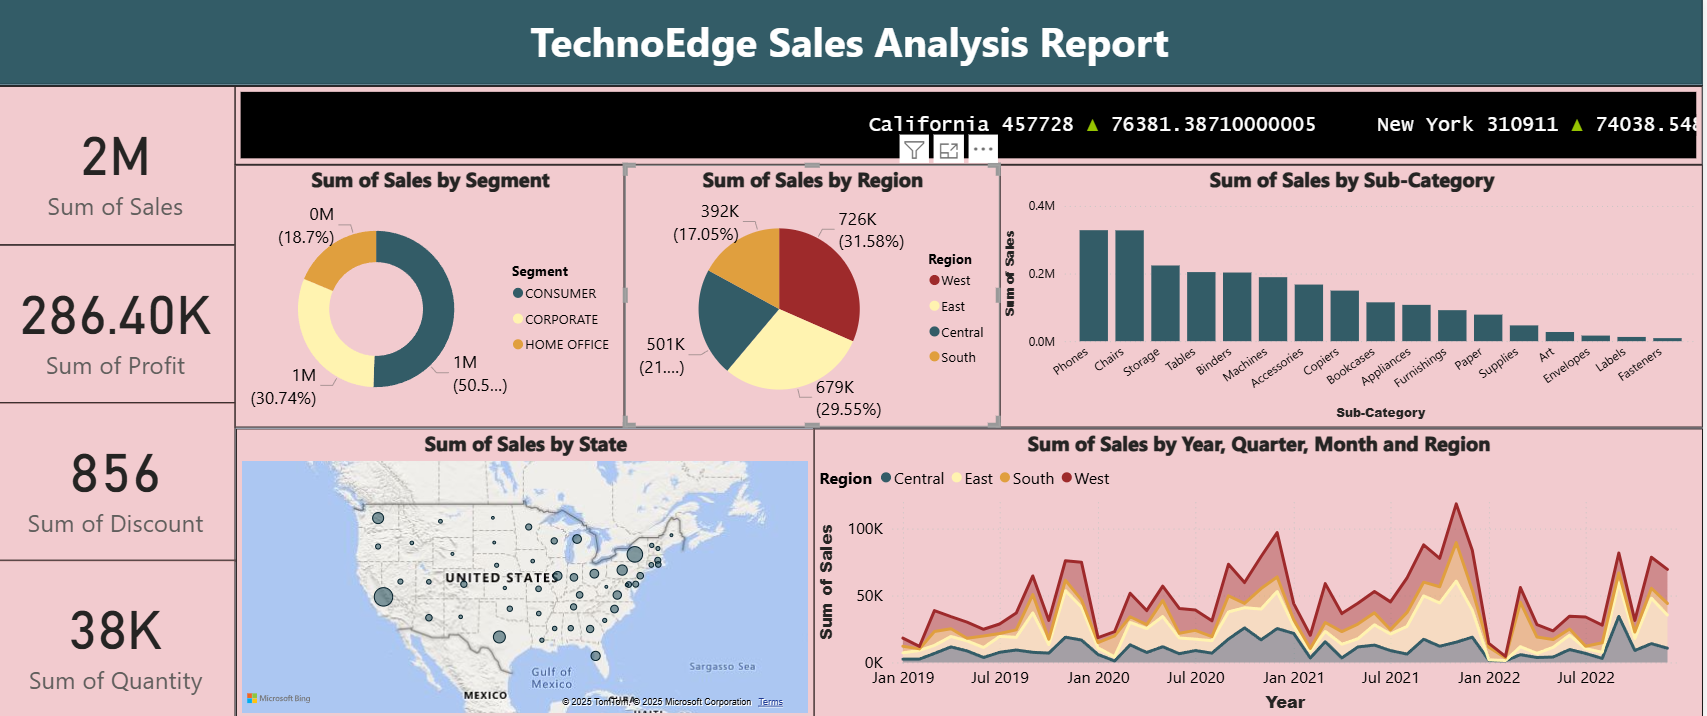

This screenshot's page, from the dashboard's own definition file:
{"tool":"powerbi","page":{"name":"Page 1","canvas":[1700,720],"ordinal":0},"visuals":[{"type":"shape","box":[0,0,1700.4,89.3],"z":0},{"type":"card","fields":{"Values":["Sum(TechnoEdge Monthy Sales Data (2).Sales)"]},"box":[0,90,238.3,158.3],"z":2000},{"type":"card","fields":{"Values":["Sum(TechnoEdge Monthy Sales Data (2).Profit)"]},"box":[0,247.9,238.7,158.6],"z":3000},{"type":"card","fields":{"Values":["Sum(TechnoEdge Monthy Sales Data (2).Discount)"]},"box":[0,404.6,238.7,158.6],"z":4000},{"type":"card","fields":{"Values":["Sum(TechnoEdge Monthy Sales Data (2).Quantity)"]},"box":[0,561.3,238.7,158.6],"z":5000},{"type":"stackedAreaChart","fields":{"Category":["TechnoEdge Monthy Sales Data (2).Order Date.Variation.Date Hierarchy.Year","TechnoEdge Monthy Sales Data (2).Order Date.Variation.Date Hierarchy.Quarter","TechnoEdge Monthy Sales Data (2).Order Date.Variation.Date Hierarchy.Month","TechnoEdge Monthy Sales Data (2).Order Date.Variation.Date Hierarchy.Day"],"Y":["Sum(TechnoEdge Monthy Sales Data (2).Sales)"],"Series":["TechnoEdge Monthy Sales Data (2).Region"]},"box":[814.6,430.1,885.7,289.8],"z":6000},{"type":"map","fields":{"Category":["TechnoEdge Monthy Sales Data (2).State"],"Size":["Sum(TechnoEdge Monthy Sales Data (2).Sales)"]},"box":[238.7,430.1,575.9,289.8],"z":7000},{"type":"columnChart","fields":{"Category":["TechnoEdge Monthy Sales Data (2).Sub-Category"],"Y":["Sum(TechnoEdge Monthy Sales Data (2).Sales)"]},"box":[1000,168.3,700,261.7],"z":8000},{"type":"pieChart","fields":{"Category":["TechnoEdge Monthy Sales Data (2).Region"],"Y":["Sum(TechnoEdge Monthy Sales Data (2).Sales)"]},"box":[626.7,168.3,373.3,261.7],"z":9000},{"type":"donutChart","fields":{"Category":["TechnoEdge Monthy Sales Data (2).Segment"],"Y":["Sum(TechnoEdge Monthy Sales Data (2).Sales)"]},"box":[238.3,168.3,388.3,261.7],"z":10000},{"type":"ScrollingTextVisual1448795304508","fields":{"Category":["TechnoEdge Monthy Sales Data (2).State"],"Measure Absolute":["Sum(TechnoEdge Monthy Sales Data (2).Sales)"],"Measure Deviation":["Sum(TechnoEdge Monthy Sales Data (2).Profit)"]},"box":[238,90.3,1462.2,78.1],"z":11000}]}

Visuals, with their boxes in screenshot pixels (x1, y1, x2, y2), scaled from the page's 1700x720 canvas onto the 1707x716 screenshot:
shape: region(0, 0, 1706, 89)
card - Sum(TechnoEdge Monthy Sales Data (2).Sales): region(0, 90, 239, 247)
card - Sum(TechnoEdge Monthy Sales Data (2).Profit): region(0, 247, 240, 404)
card - Sum(TechnoEdge Monthy Sales Data (2).Discount): region(0, 402, 240, 560)
card - Sum(TechnoEdge Monthy Sales Data (2).Quantity): region(0, 558, 240, 715)
stackedAreaChart - TechnoEdge Monthy Sales Data (2).Order Date.Variation.Date Hierarchy.Year x TechnoEdge Monthy Sales Data (2).Order Date.Variation.Date Hierarchy.Quarter: region(818, 428, 1706, 715)
map - TechnoEdge Monthy Sales Data (2).State x Sum(TechnoEdge Monthy Sales Data (2).Sales): region(240, 428, 818, 715)
columnChart - TechnoEdge Monthy Sales Data (2).Sub-Category x Sum(TechnoEdge Monthy Sales Data (2).Sales): region(1004, 167, 1706, 428)
pieChart - TechnoEdge Monthy Sales Data (2).Region x Sum(TechnoEdge Monthy Sales Data (2).Sales): region(629, 167, 1004, 428)
donutChart - TechnoEdge Monthy Sales Data (2).Segment x Sum(TechnoEdge Monthy Sales Data (2).Sales): region(239, 167, 629, 428)
ScrollingTextVisual1448795304508 - TechnoEdge Monthy Sales Data (2).State x Sum(TechnoEdge Monthy Sales Data (2).Sales): region(239, 90, 1706, 167)
